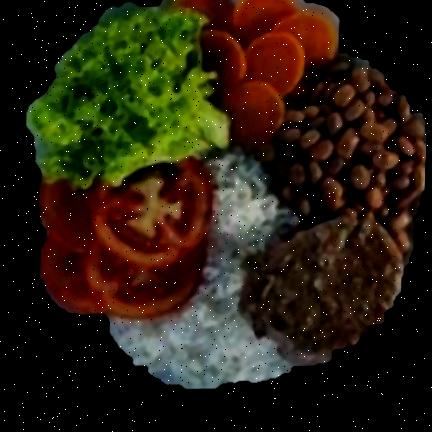beans: (260, 53, 426, 254)
carrot: (172, 0, 337, 146)
meat: (238, 214, 403, 365)
rice: (109, 151, 296, 389)
salad: (26, 3, 228, 189)
tomato: (38, 158, 225, 320)
